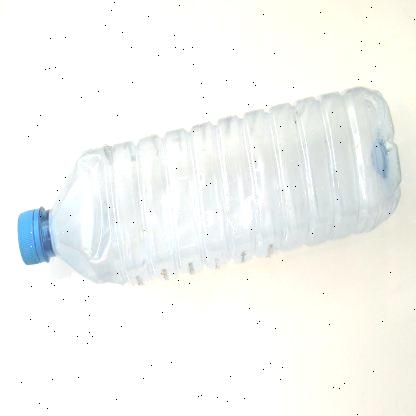Plastic Bottle: (19, 88, 402, 284)
